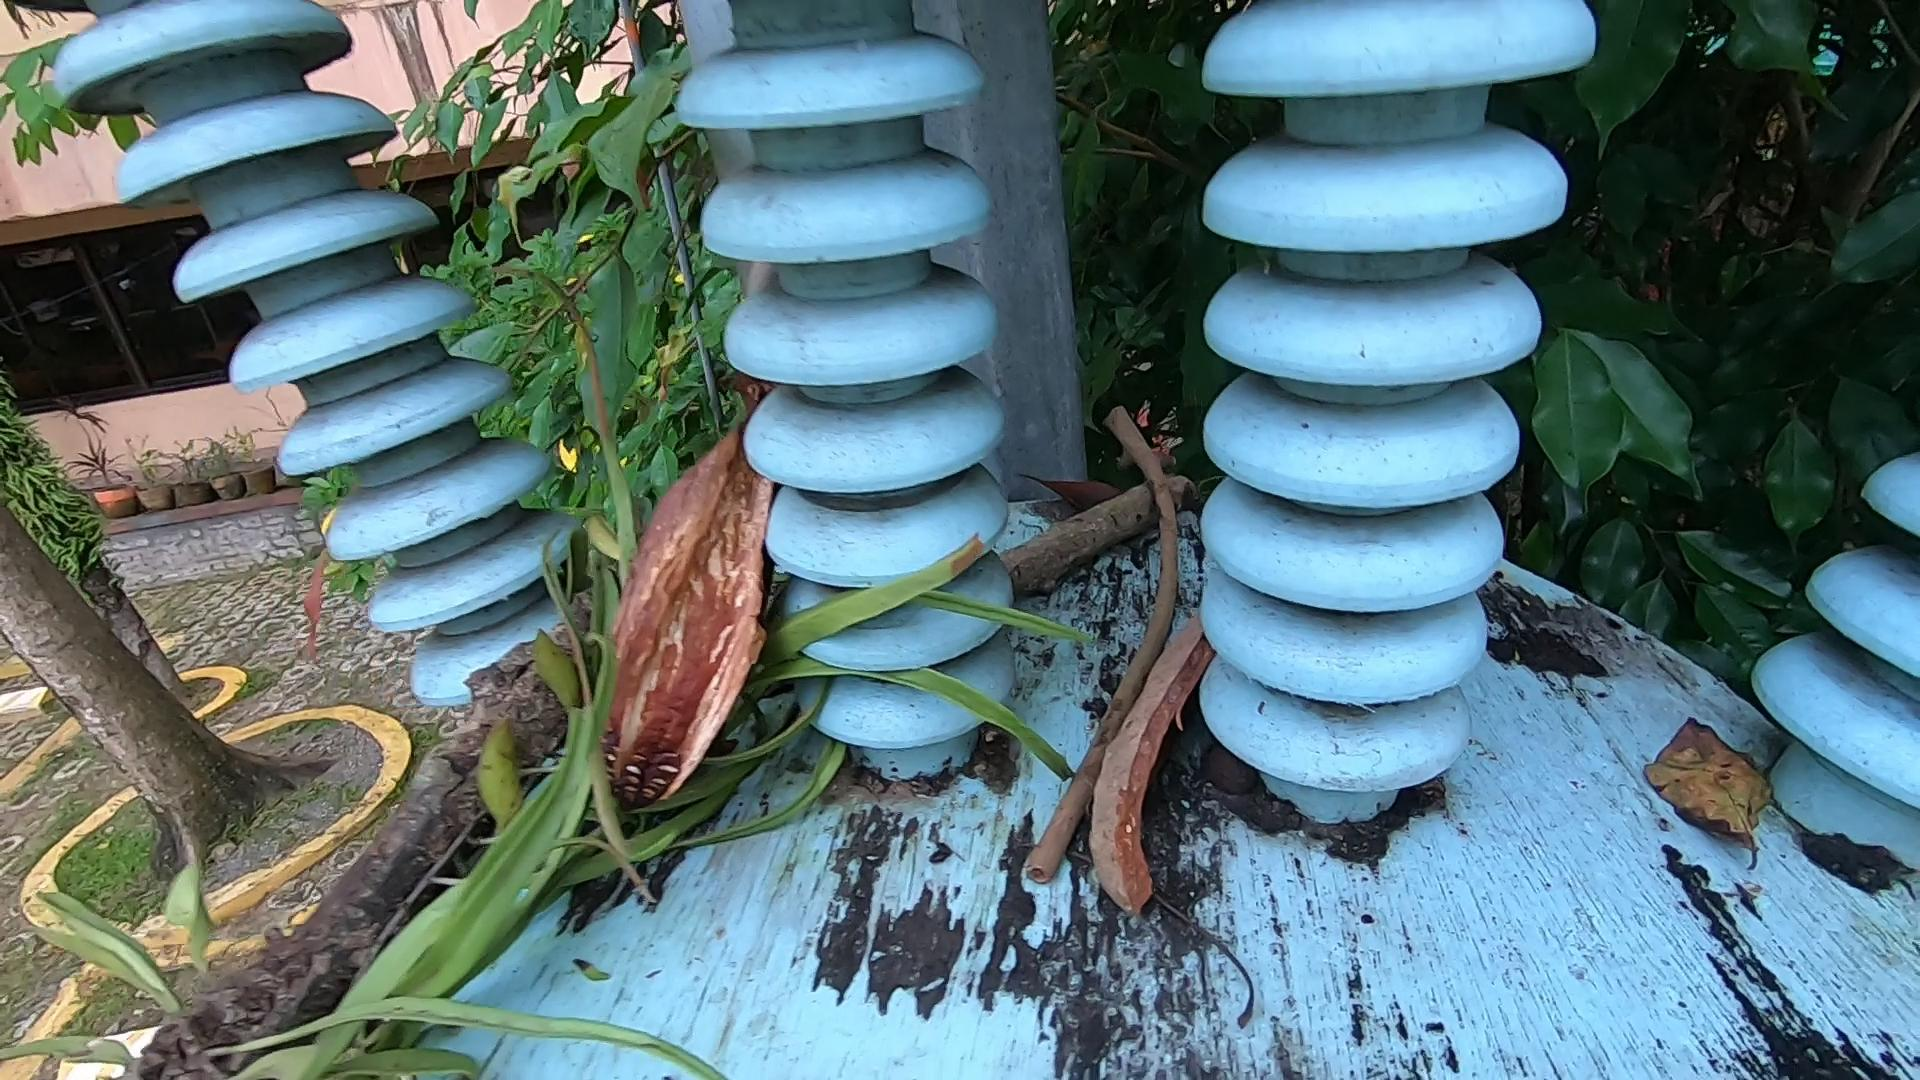branch with leaves: (7, 265, 1075, 1080)
leaf: (1643, 717, 1778, 869)
mahogany fruit: (587, 363, 793, 905), (1102, 545, 1244, 975)
tree branch: (1025, 392, 1189, 882), (1004, 465, 1187, 584)
